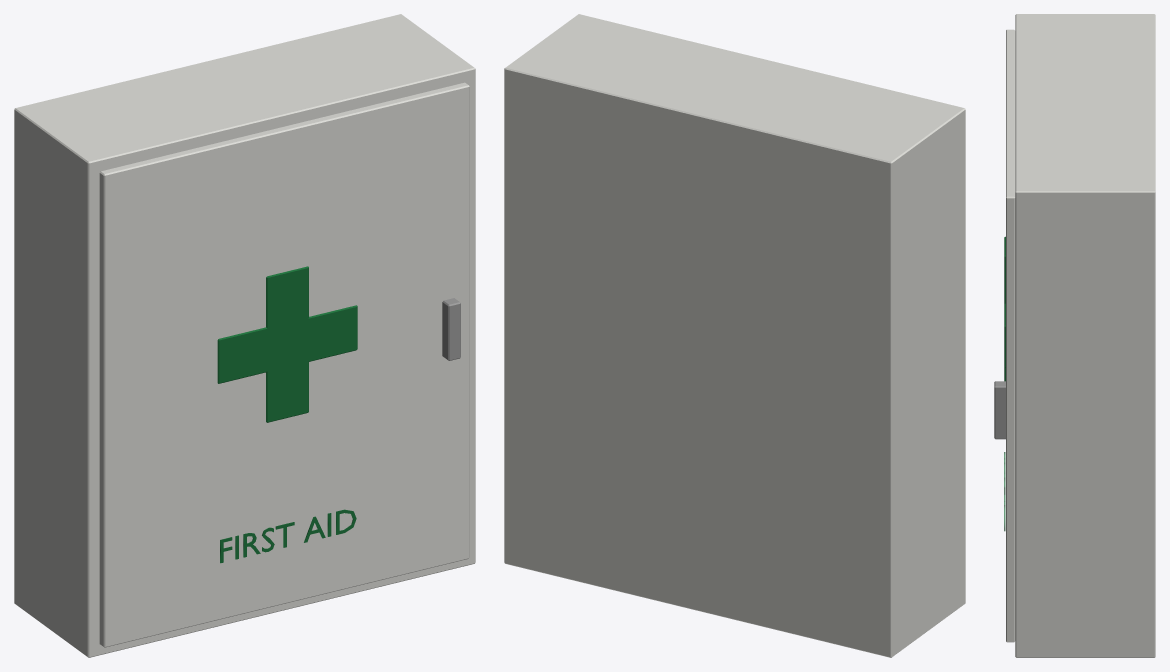
Rendered from first_aid_box.glb.
3 views of the same model, side by side, from view 1: azimuth 30°, elevation 25°; view 2: azimuth 150°, elevation 25°; view 3: azimuth 270°, elevation 25° (orthographic). The views are drawn at different scales.
Visible parts, largest first — view 1: first_aid_box, text; view 2: first_aid_box; view 3: first_aid_box.
Part boxes in pixels (left/top/right/bottom): first_aid_box: left=14, top=14, right=475, bottom=657; text: left=220, top=509, right=356, bottom=563; first_aid_box: left=504, top=14, right=965, bottom=657; first_aid_box: left=994, top=14, right=1155, bottom=657.
Size of the model in its own units: 0.36 by 0.44 by 0.138.
